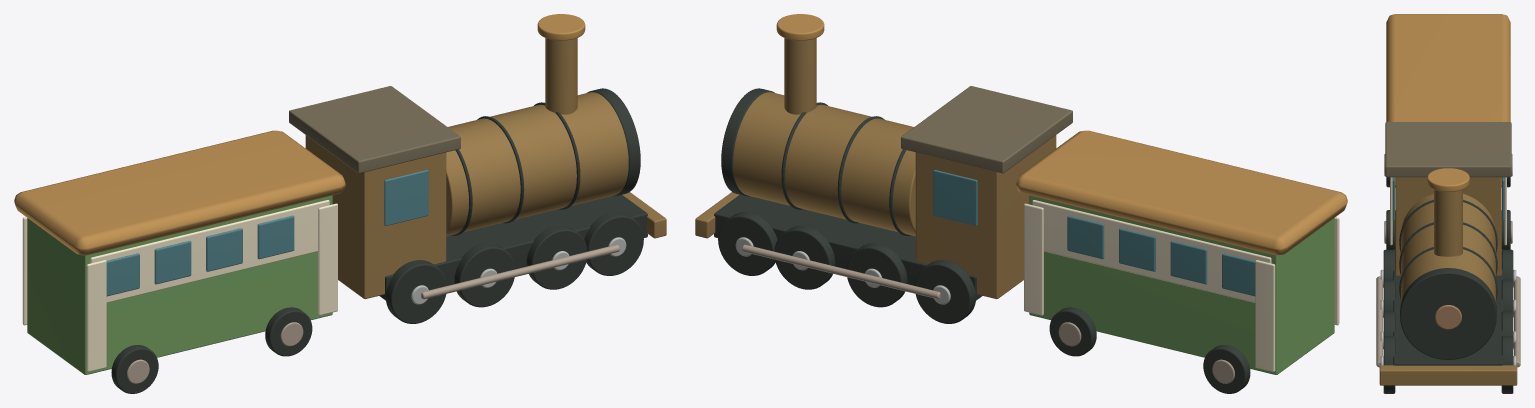
File: 10_steam_train.glb
3 renders of one model, left to right at view 1: azimuth 30°, elevation 25°; view 2: azimuth 150°, elevation 25°; view 3: azimuth 270°, elevation 25°, orthographic. The views are drawn at different scales.
Parts seen in each view (by area): view 1: 10_steam_train; view 2: 10_steam_train; view 3: 10_steam_train.
Boxes of the visible parts, x1=… form: 10_steam_train: x1=14, y1=14, x2=666, y2=393; 10_steam_train: x1=695, y1=14, x2=1347, y2=393; 10_steam_train: x1=1376, y1=14, x2=1520, y2=393.
Bounding box in the file's own units: 6.23 × 2.38 × 1.49.
